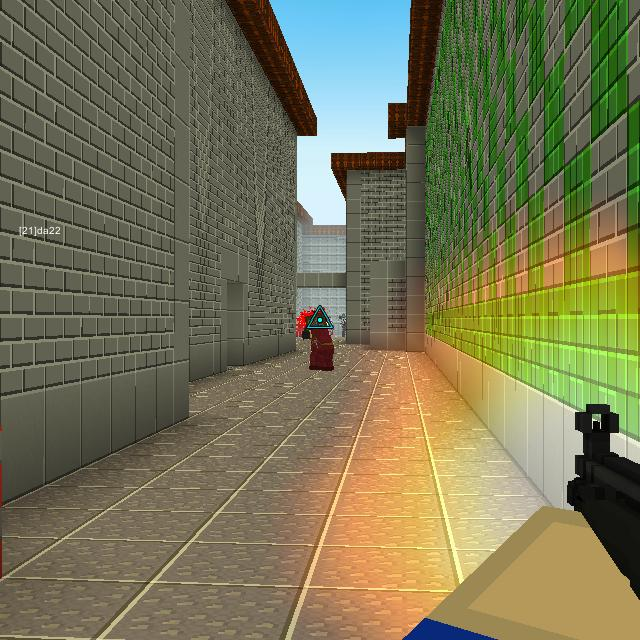enemy: (301, 309, 335, 371), (336, 312, 346, 337), (295, 317, 304, 337)
